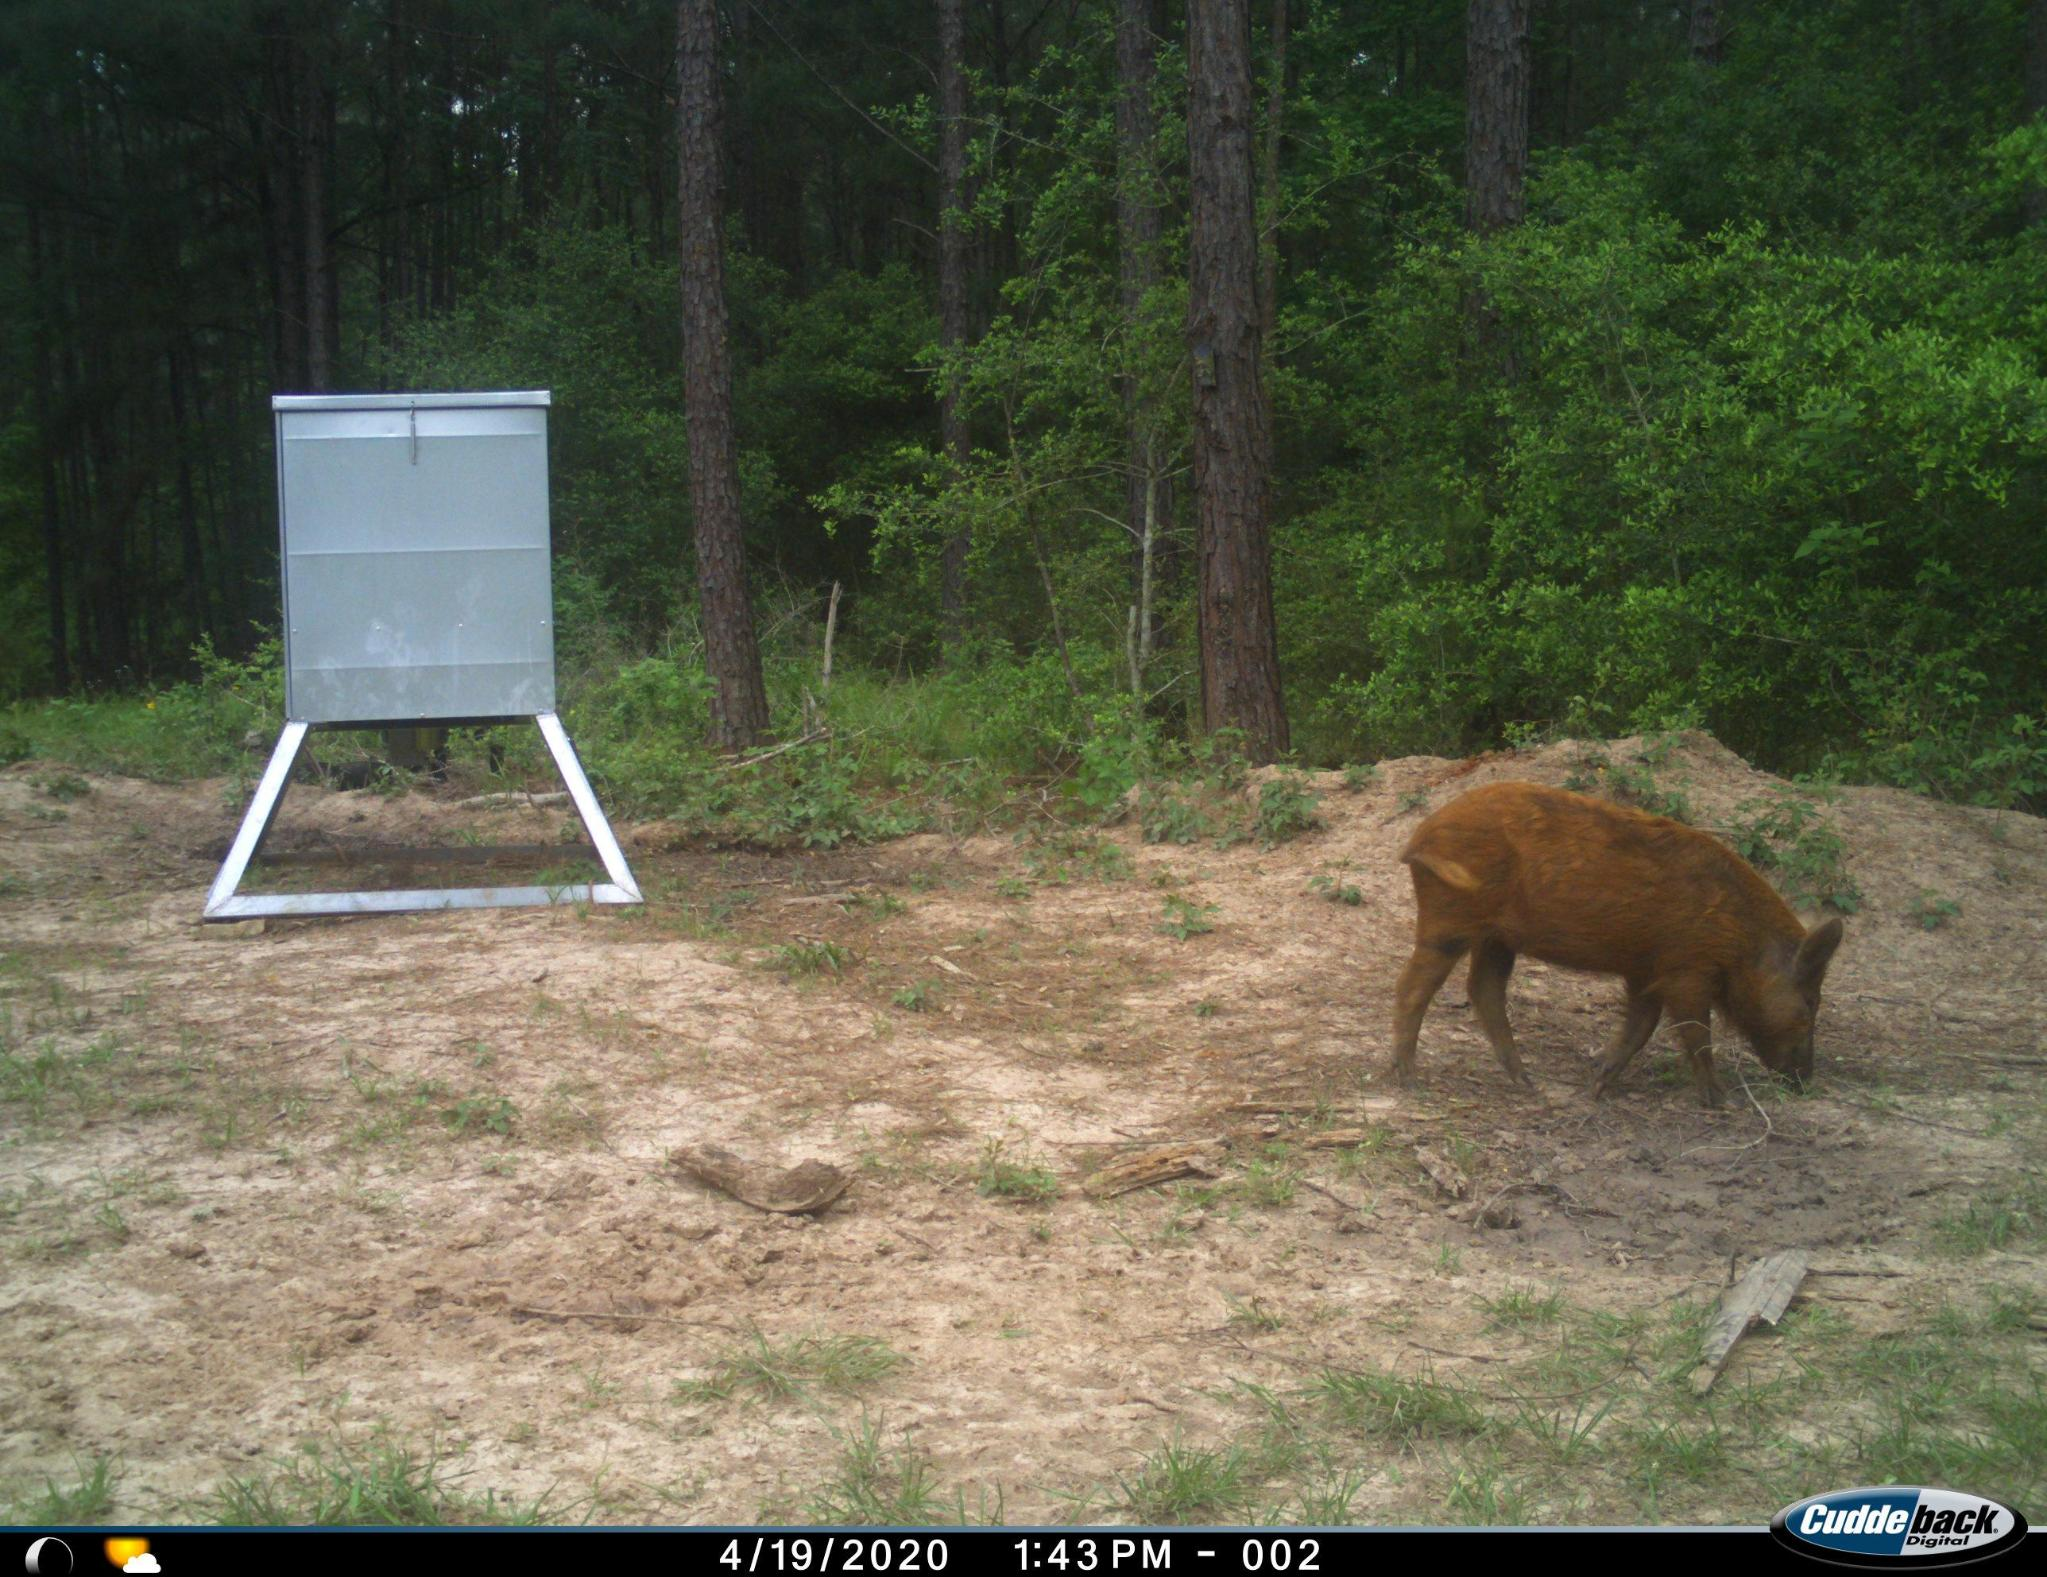Hog: (1370, 774, 1838, 1125)
